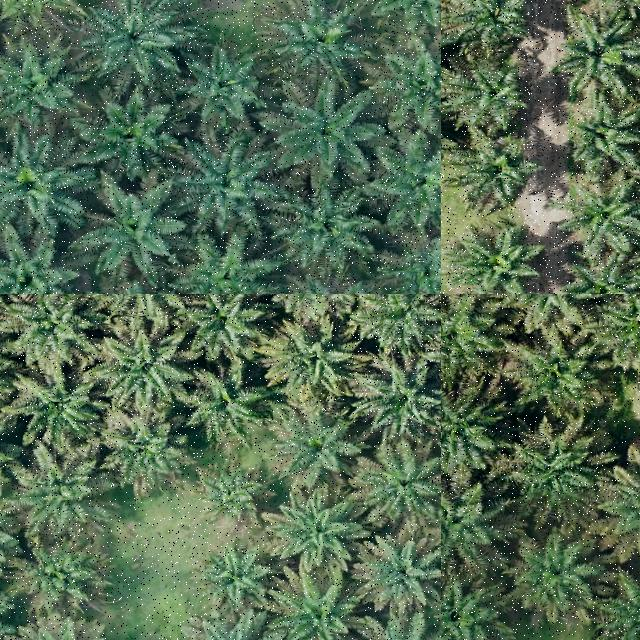Ganoderma: (0, 0, 57, 18)
